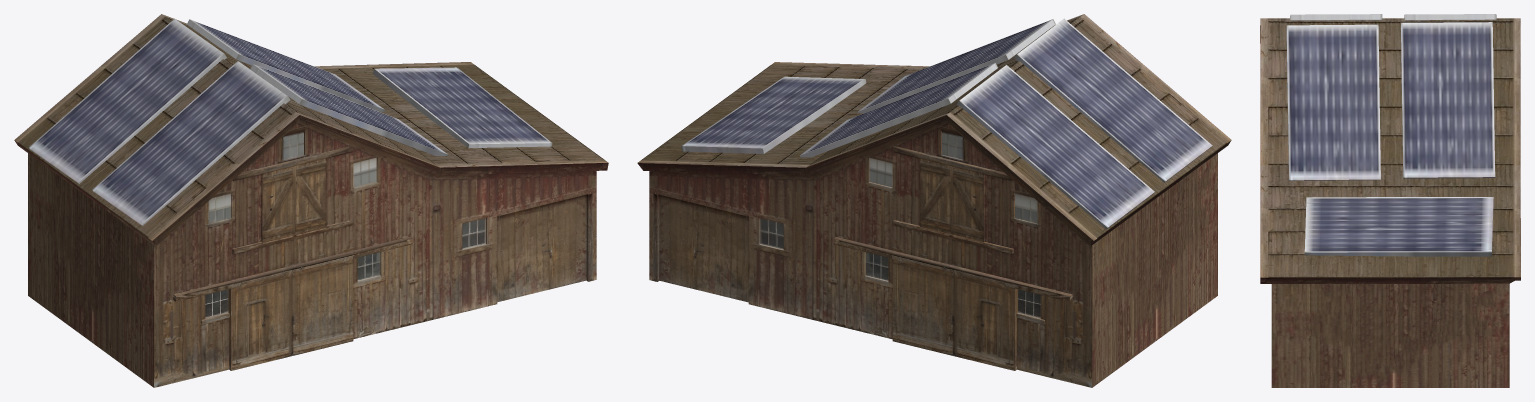
The model's file is barn.glb.
The picture shows the model from 3 angles, left to right: view 1: azimuth 30°, elevation 25°; view 2: azimuth 150°, elevation 25°; view 3: azimuth 270°, elevation 25°; orthographic projection. The views are drawn at different scales.
Parts seen in each view (by area): view 1: Object_108, Object_107; view 2: Object_108, Object_107; view 3: Object_108, Object_107.
Part boxes in pixels (x1,y1,x2,y2): Object_108: (14, 14, 608, 387); Object_107: (28, 18, 552, 225); Object_108: (637, 14, 1231, 387); Object_107: (681, 18, 1212, 229); Object_108: (1260, 18, 1520, 387); Object_107: (1286, 14, 1496, 256).
Bounding box in the file's own units: 13.6 × 7.1 × 7.12.
Materials: 2 (2 with a texture image).
